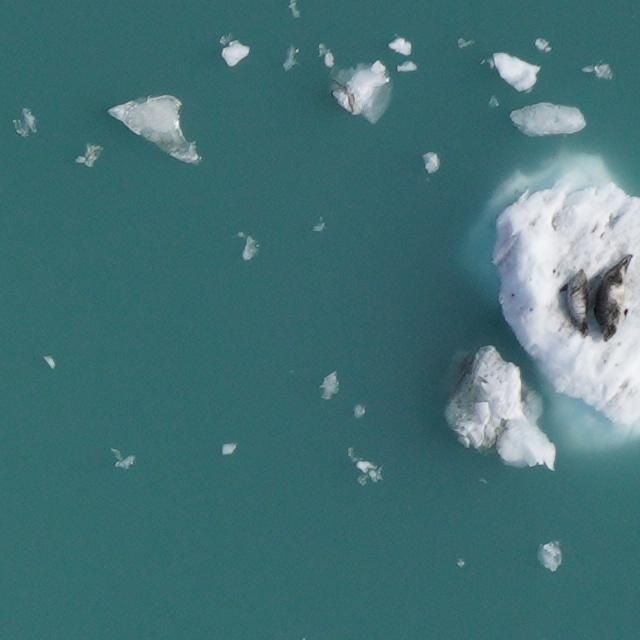seal: (589, 250, 633, 342), (561, 264, 593, 339)
